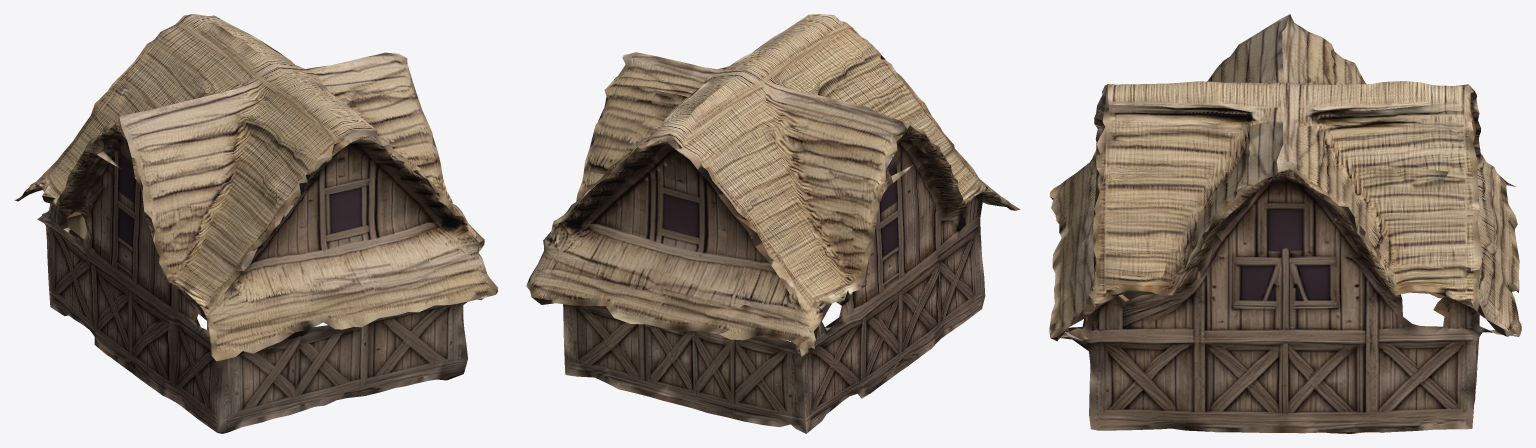
The model's file is barn.glb.
3 views of the same model, side by side, from view 1: azimuth 30°, elevation 25°; view 2: azimuth 150°, elevation 25°; view 3: azimuth 270°, elevation 25° (orthographic). The views are drawn at different scales.
Parts seen in each view (by area): view 1: Medieval House; view 2: Medieval House; view 3: Medieval House.
Part boxes in pixels (<box>): Medieval House: <box>14,14,497,433</box>; Medieval House: <box>526,14,1020,433</box>; Medieval House: <box>1049,14,1521,433</box>.
Bounding box in the file's own units: 5.65 × 5 × 7.11.
1 material, 1 textured.
